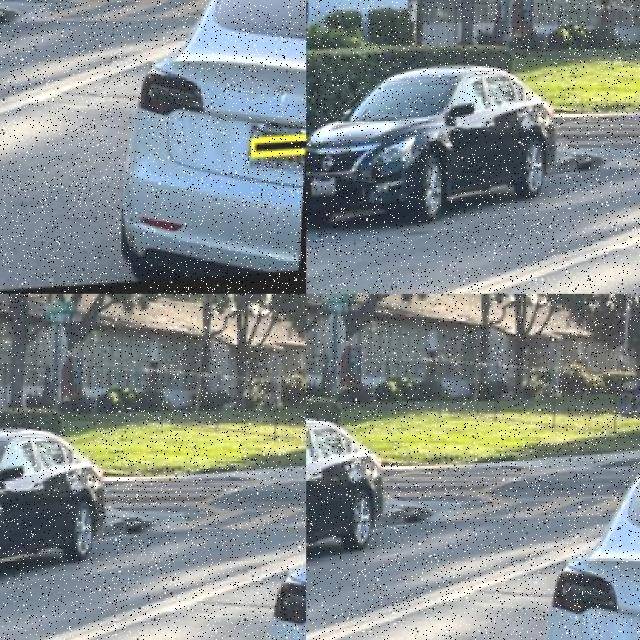licenseplate: (0, 0, 18, 17), (0, 294, 20, 304)
